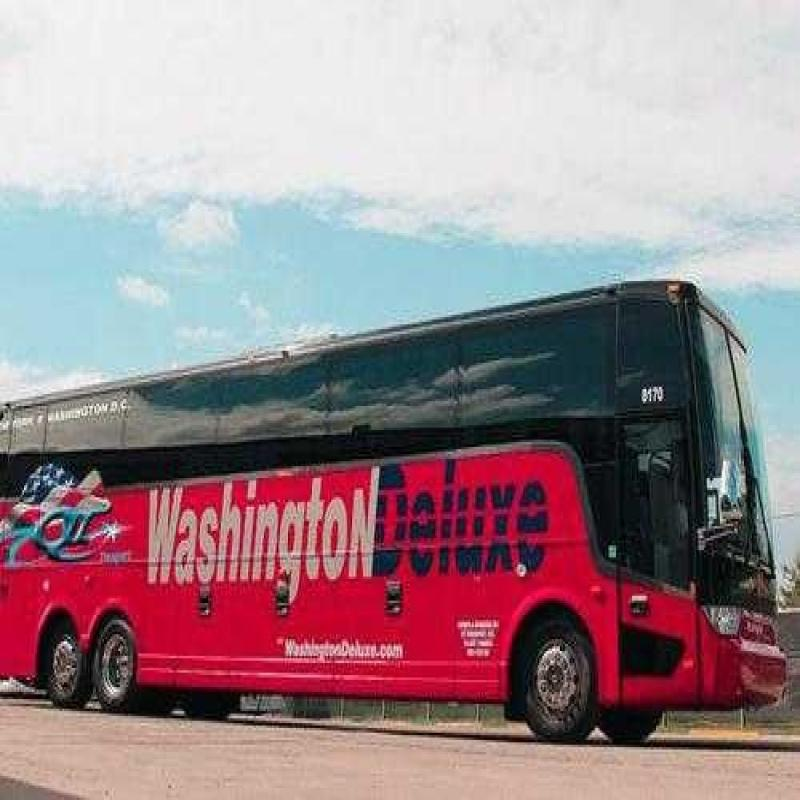bus: (1, 271, 800, 800)
